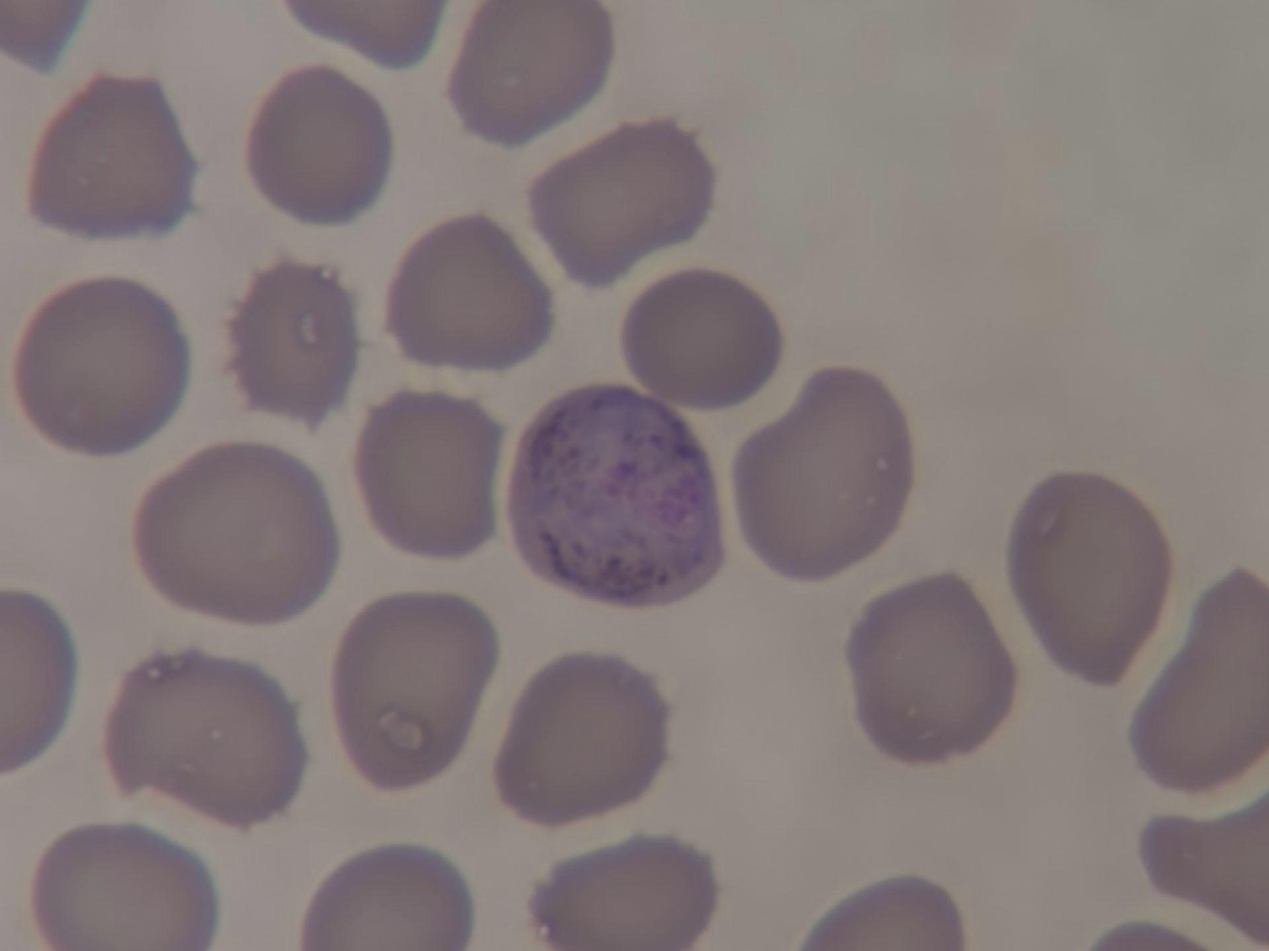Infected: (544, 344, 761, 561)
Uninfected: (354, 367, 535, 582), (930, 329, 1134, 513), (962, 119, 1161, 302), (99, 270, 266, 475), (772, 161, 939, 358), (258, 185, 423, 384), (0, 154, 141, 377), (555, 661, 740, 830), (604, 129, 774, 305), (1084, 499, 1250, 672), (1071, 714, 1239, 875), (715, 577, 879, 735), (658, 800, 821, 951), (770, 390, 913, 559), (1051, 0, 1239, 127), (879, 724, 1022, 887), (486, 539, 646, 679), (905, 526, 1043, 687), (550, 0, 736, 118), (793, 0, 970, 106)
